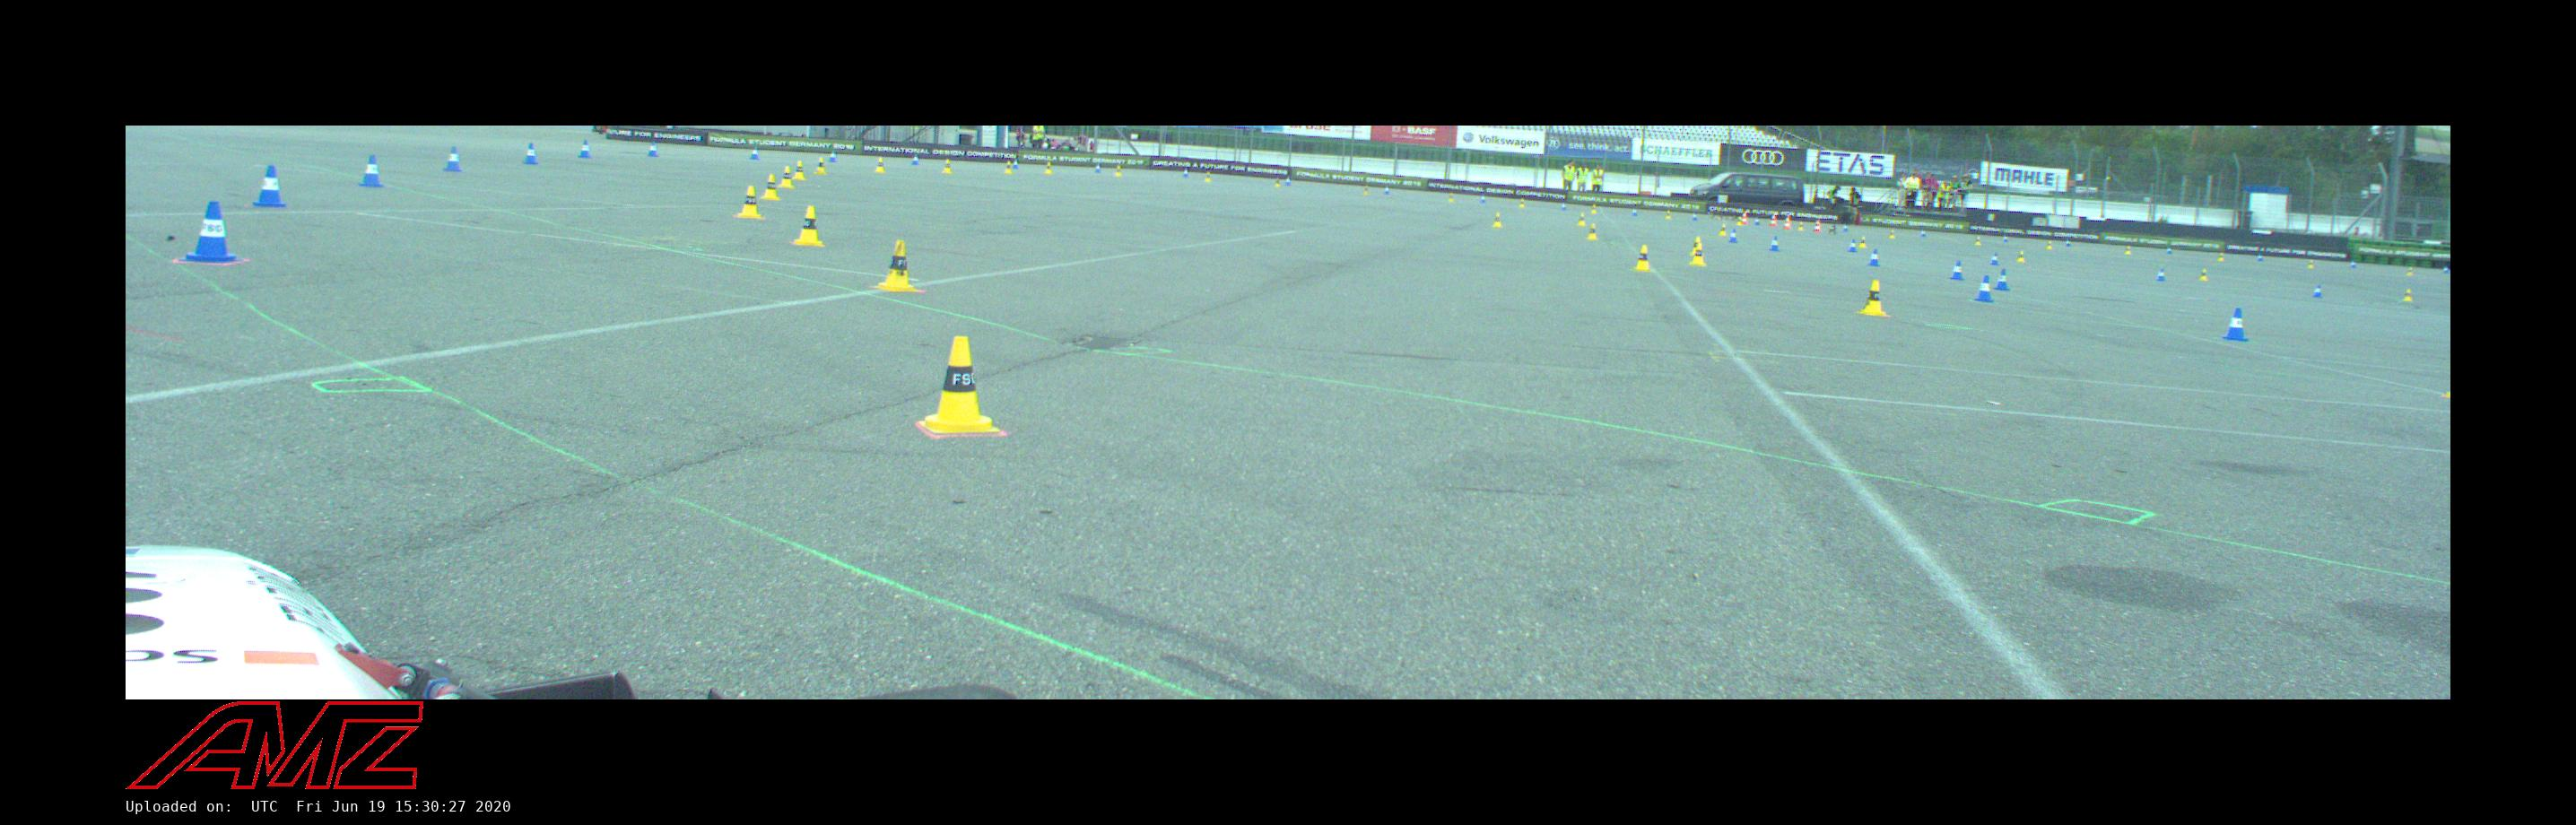blue_cone: (182, 202, 240, 263), (251, 164, 285, 207), (2222, 308, 2248, 342), (358, 154, 383, 187), (1973, 275, 1993, 303), (443, 146, 461, 171), (522, 142, 538, 165), (1993, 269, 2010, 291), (1949, 259, 1964, 280), (578, 140, 591, 159), (1867, 248, 1880, 266), (646, 140, 658, 157), (1770, 236, 1780, 252), (748, 146, 760, 160), (1727, 228, 1737, 243), (2156, 268, 2167, 282), (1989, 251, 1999, 265), (828, 149, 838, 162), (2312, 284, 2322, 297), (1848, 239, 1858, 252), (911, 153, 919, 165)
large_orange_cone: (1782, 213, 1790, 230), (1813, 218, 1821, 232), (1770, 213, 1778, 226), (1741, 211, 1747, 223)
yellow_cone: (919, 336, 999, 433), (875, 240, 917, 292), (793, 205, 823, 246), (1858, 280, 1887, 317), (736, 186, 761, 218), (1632, 244, 1651, 271), (761, 174, 779, 199), (1690, 243, 1705, 265), (779, 165, 794, 187), (792, 160, 805, 179), (814, 156, 827, 175), (941, 157, 953, 174), (874, 157, 885, 172), (1587, 222, 1597, 239), (1491, 212, 1501, 227), (2198, 268, 2208, 282), (1003, 161, 1013, 173), (2402, 289, 2412, 301), (2016, 250, 2024, 262)
